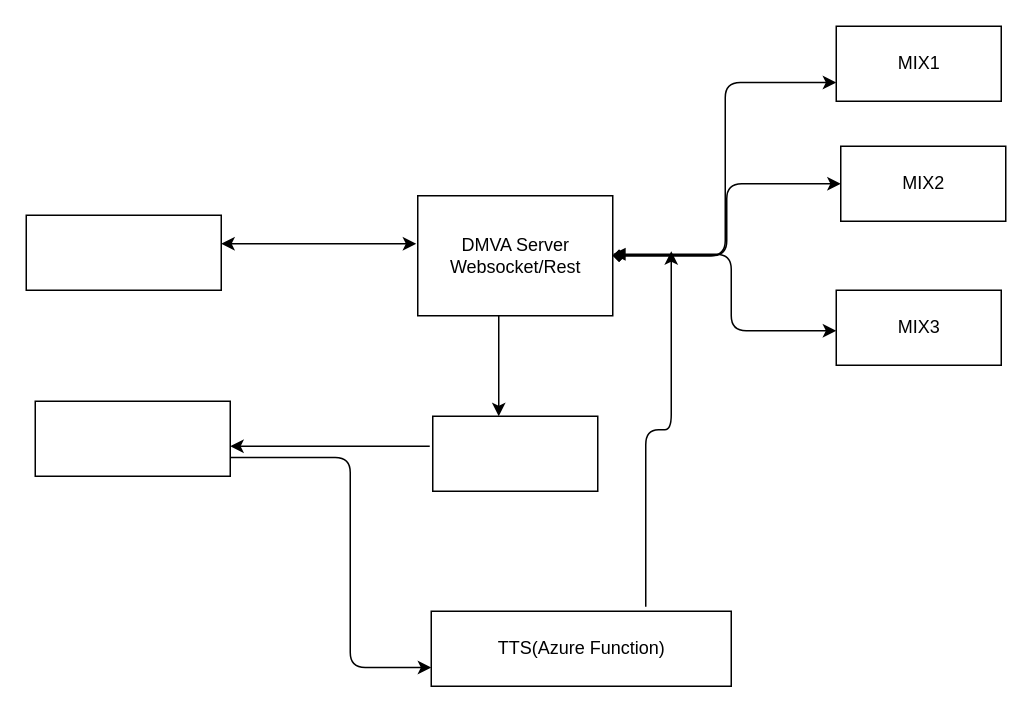
This 1032x713 diagram has some shape labels left out. Each missing label, with the centre of its shape:
"Control Channel EHR" goes at (x=123, y=252).
"DMH (Event Hub)" goes at (x=514, y=453).
"DMO/IOS" goes at (x=132, y=438).
